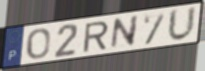2: (54, 22, 81, 59)
7: (142, 11, 167, 47)
N: (109, 14, 141, 51)
O: (26, 27, 52, 61)
R: (82, 19, 111, 53)
U: (166, 5, 197, 43)
